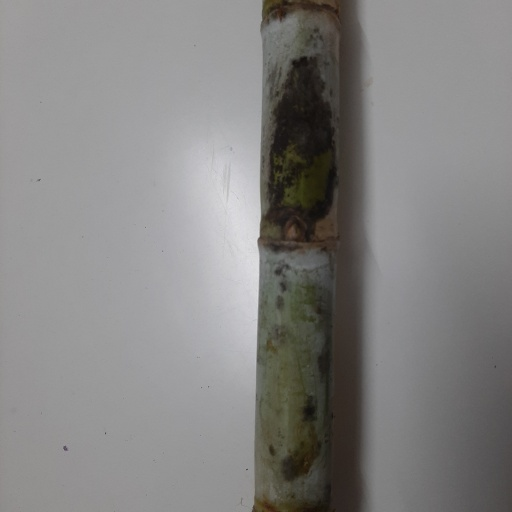Bud: (282, 218, 304, 242)
